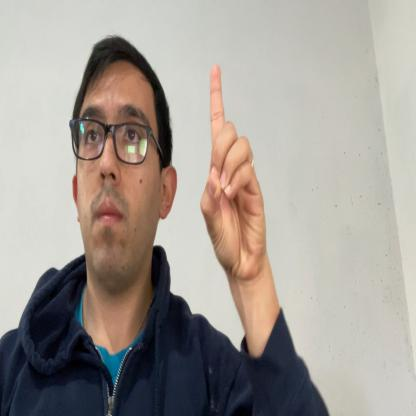D: (201, 63, 267, 280)
